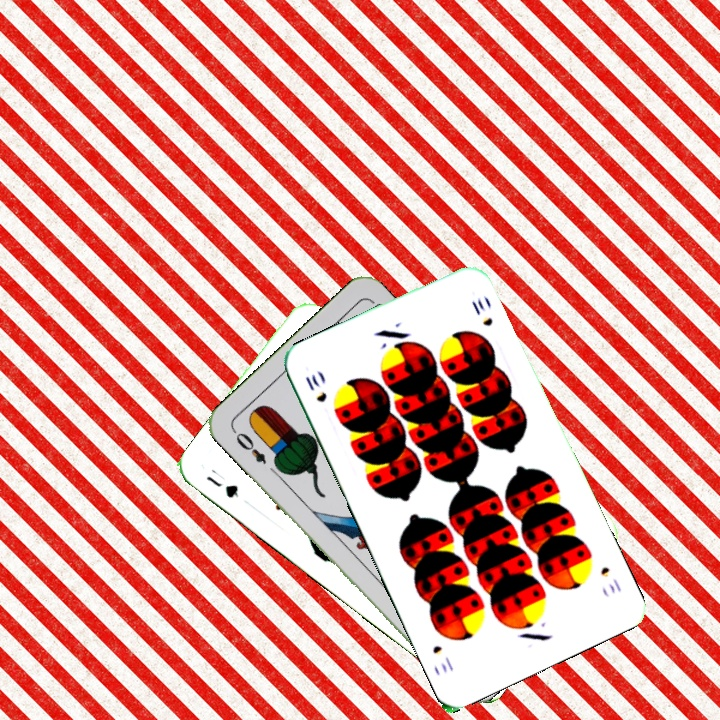EO: (228, 425, 269, 467)
GU: (202, 471, 242, 501)
S10: (301, 370, 330, 405), (596, 563, 624, 596)
